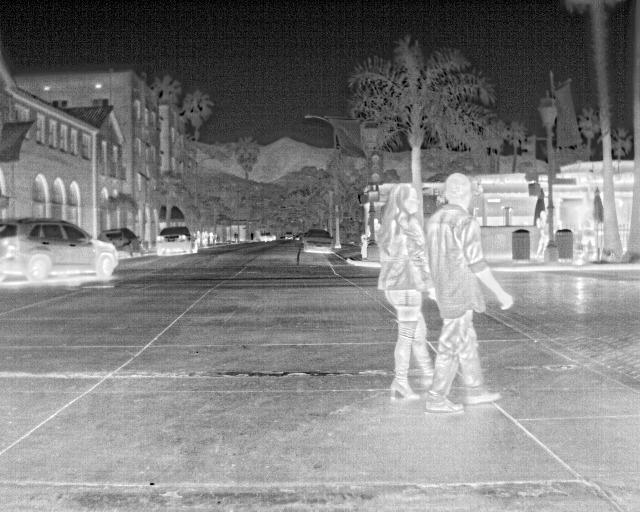bicycle: (1, 214, 119, 285), (97, 227, 141, 258), (155, 226, 193, 256), (299, 227, 337, 255)
empty: (421, 170, 514, 417), (372, 181, 438, 401), (532, 208, 548, 258)
